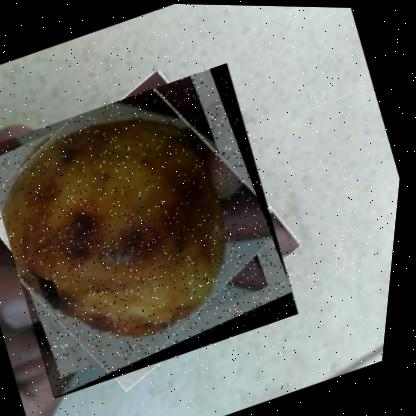guava_rotten: (0, 54, 327, 402)
